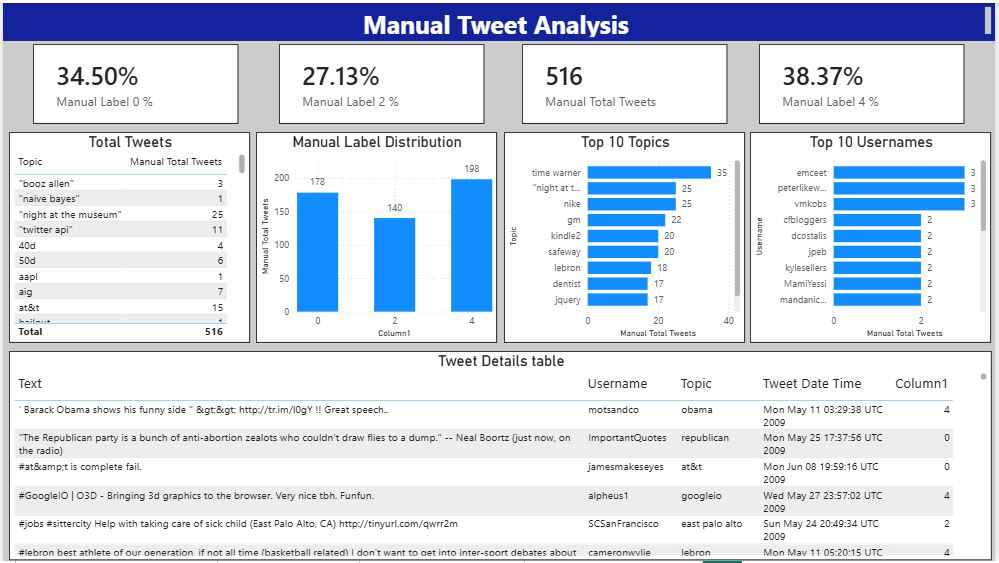

The page's visual inventory and layout, read from the dashboard file:
{"tool":"powerbi","page":{"name":"Manual  Tweet Analysis","canvas":[1280,720],"ordinal":2},"visuals":[{"type":"tableEx","title":"Total Tweets","fields":{"Values":["Testdata manual 2009 06 14.Topic","Testdata manual 2009 06 14.Manual Total Tweets"]},"box":[7.2,166.3,310.8,271.8],"z":1},{"type":"cardVisual","fields":{"Data":["Testdata manual 2009 06 14.Manual Label 0 %"]},"box":[39,53.5,264.6,102.7],"z":5},{"type":"cardVisual","fields":{"Data":["Testdata manual 2009 06 14.Manual Label 2 %"]},"box":[355.7,53.5,264.6,102.7],"z":6},{"type":"cardVisual","fields":{"Data":["Testdata manual 2009 06 14.Manual Label 4 %"]},"box":[975.9,53.5,264.6,102.7],"z":7},{"type":"clusteredColumnChart","title":"Manual Label Distribution","fields":{"Category":["Testdata manual 2009 06 14.Column1"],"Y":["Testdata manual 2009 06 14.Manual Total Tweets"]},"box":[326.7,166.3,310.8,271.8],"z":8},{"type":"clusteredBarChart","title":"Top 10 Topics","fields":{"Category":["Testdata manual 2009 06 14.Topic"],"Y":["Testdata manual 2009 06 14.Manual Total Tweets"]},"box":[646.3,166.3,310.8,271.8],"z":9},{"type":"clusteredBarChart","title":"Top 10 Usernames","fields":{"Y":["Testdata manual 2009 06 14.Manual Total Tweets"],"Category":["Testdata manual 2009 06 14.Username"]},"box":[964.3,166.3,310.8,271.8],"z":10},{"type":"tableEx","title":"Tweet Details table","fields":{"Values":["Testdata manual 2009 06 14.Text","Testdata manual 2009 06 14.Username","Testdata manual 2009 06 14.Topic","Testdata manual 2009 06 14.Tweet Date Time","Testdata manual 2009 06 14.Column1"]},"box":[7.2,449.6,1268,270.4],"z":11},{"type":"textbox","box":[0,0,1279.5,49.2],"z":12},{"type":"cardVisual","fields":{"Data":["Testdata manual 2009 06 14.Manual Total Tweets"]},"box":[669.4,53.5,264.6,102.7],"z":13}]}

Visuals, with their boxes in screenshot pixels (x1, y1, x2, y2), scaled from the page's 1280x720 canvas onto the 999x563 screenshot:
"Total Tweets" tableEx: 6/130/248/343
cardVisual - Testdata manual 2009 06 14.Manual Label 0 %: 30/42/237/122
cardVisual - Testdata manual 2009 06 14.Manual Label 2 %: 278/42/484/122
cardVisual - Testdata manual 2009 06 14.Manual Label 4 %: 762/42/968/122
"Manual Label Distribution" clusteredColumnChart: 255/130/498/343
"Top 10 Topics" clusteredBarChart: 504/130/747/343
"Top 10 Usernames" clusteredBarChart: 753/130/995/343
"Tweet Details table" tableEx: 6/352/995/562
textbox: 0/0/998/38
cardVisual - Testdata manual 2009 06 14.Manual Total Tweets: 522/42/729/122
